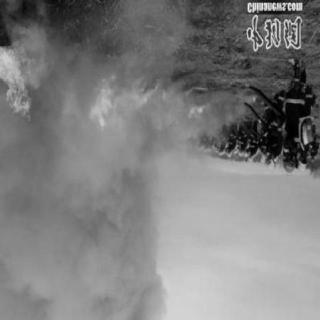Fire: (1, 42, 41, 129)
